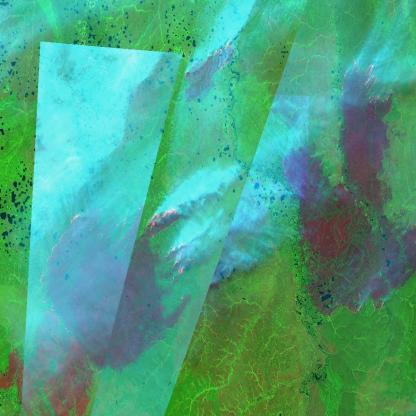fire: (140, 191, 197, 284), (338, 58, 395, 118), (318, 291, 388, 323), (206, 40, 240, 79)
